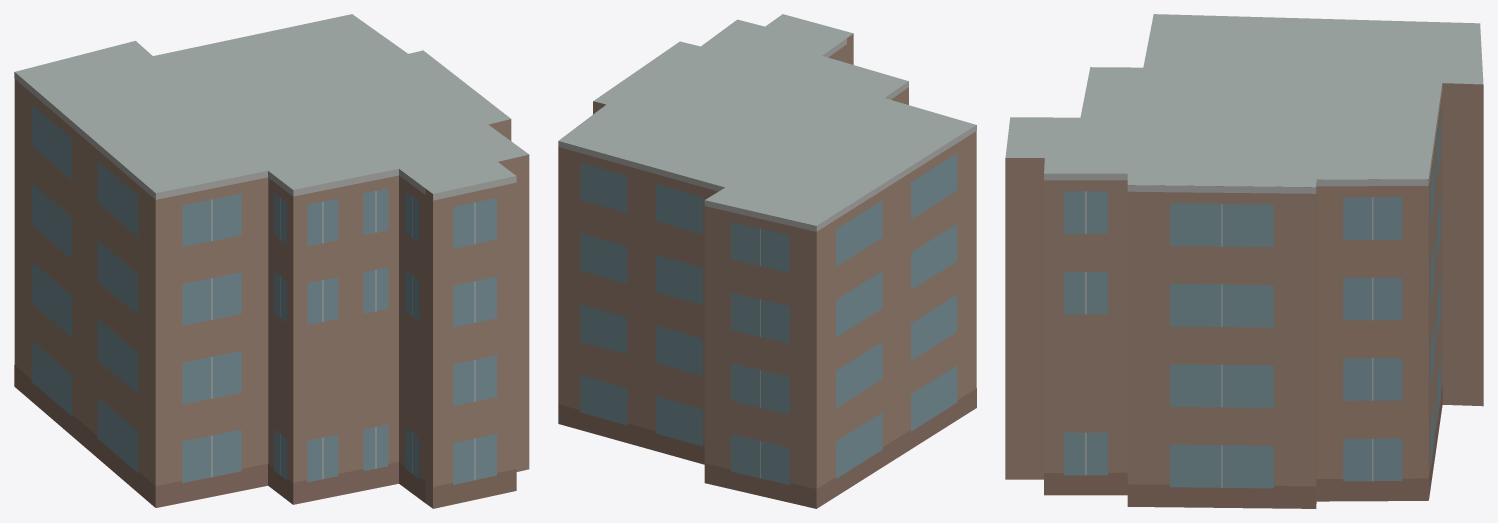
File: survey-upis-32612326.glb
The picture shows the model from 3 angles, left to right: view 1: azimuth 30°, elevation 25°; view 2: azimuth 150°, elevation 25°; view 3: azimuth 270°, elevation 25°; orthographic projection. The views are drawn at different scales.
Visible parts, largest first — view 1: survey-upis-32612326.tmp; view 2: survey-upis-32612326.tmp; view 3: survey-upis-32612326.tmp.
Boxes of the visible parts, bbox=[...] form: survey-upis-32612326.tmp: bbox=[14, 14, 529, 508]; survey-upis-32612326.tmp: bbox=[558, 14, 976, 508]; survey-upis-32612326.tmp: bbox=[1005, 14, 1483, 508].
Bounding box in the file's own units: 13.52 × 11.7 × 15.77.
